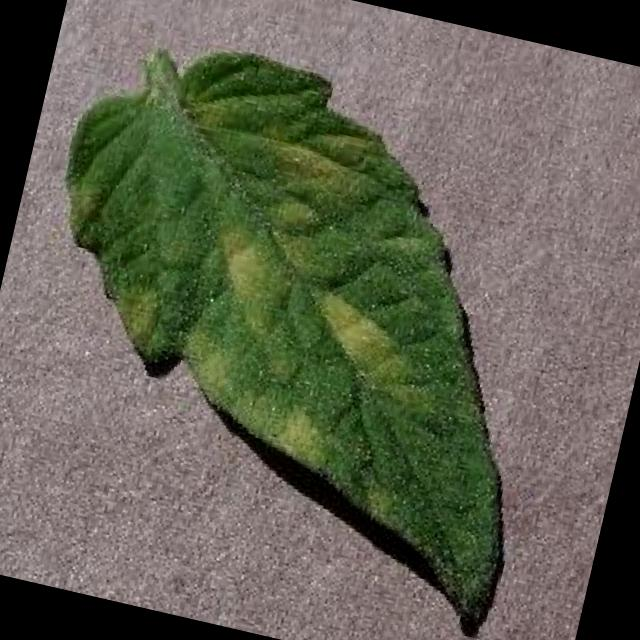leaf mold: (66, 53, 496, 628)
